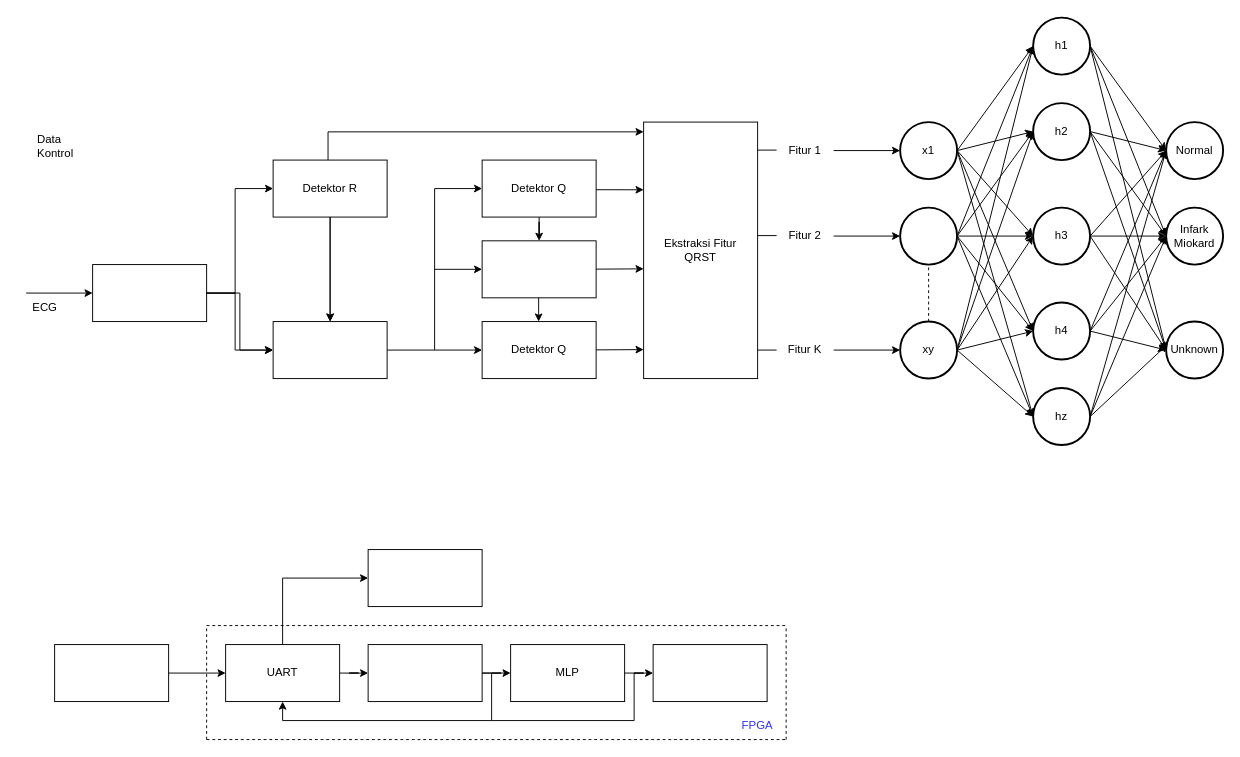
Image size: 1240x757. Some labels were removed from this diagram. The shapes that lost their labels are listed below. From the top down, each one's centre as x and y in pixels, then its label:
At (928,235): "x2".
At (538,269): "Detektor S".
At (149,293): "Bandpass FIlter".
At (329,350): "Shift Register".
At (424,578): "GUI".
At (111,673): "Input Generator ECG".
At (424,673): "FIlter & Ektraksi Fitur".
At (709,673): "Klasifikasi".
